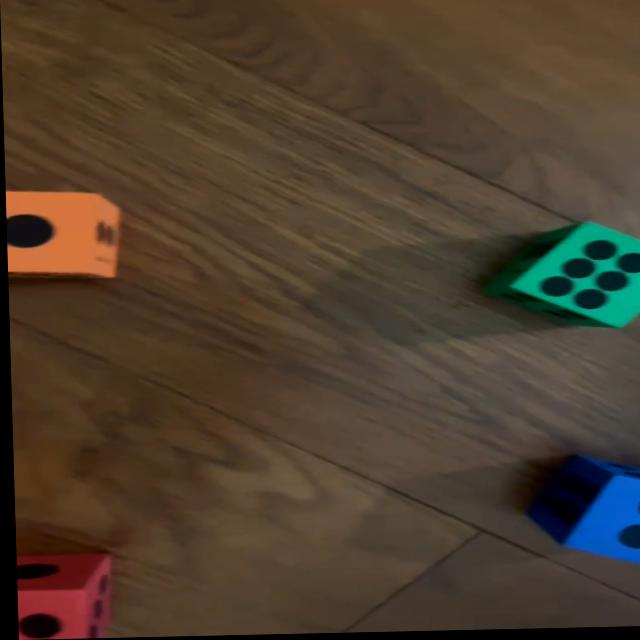cube: (480, 226, 640, 332), (13, 553, 111, 640)
